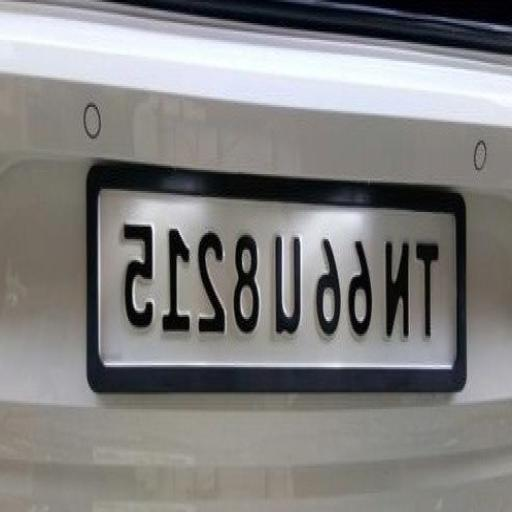License: (91, 184, 468, 380)
